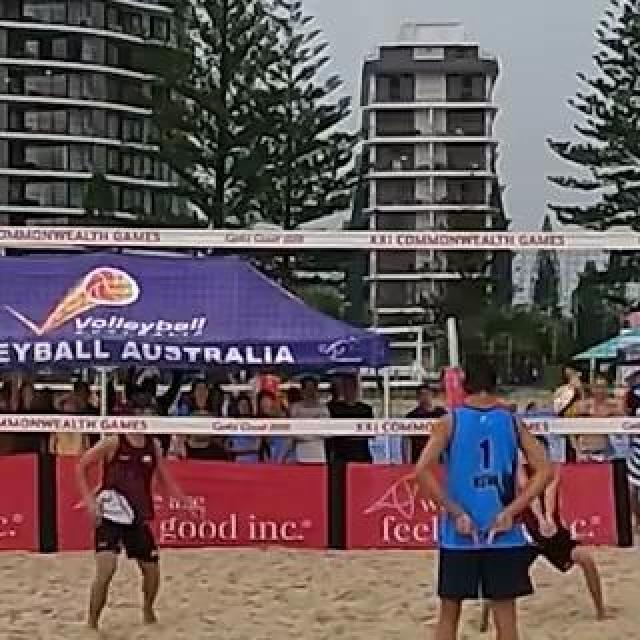volleyball: (552, 381, 586, 417)
